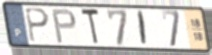7: (105, 8, 129, 47), (160, 9, 182, 50)
I: (137, 9, 149, 47)
P: (50, 8, 78, 45), (23, 7, 51, 44)
T: (79, 7, 101, 47)
